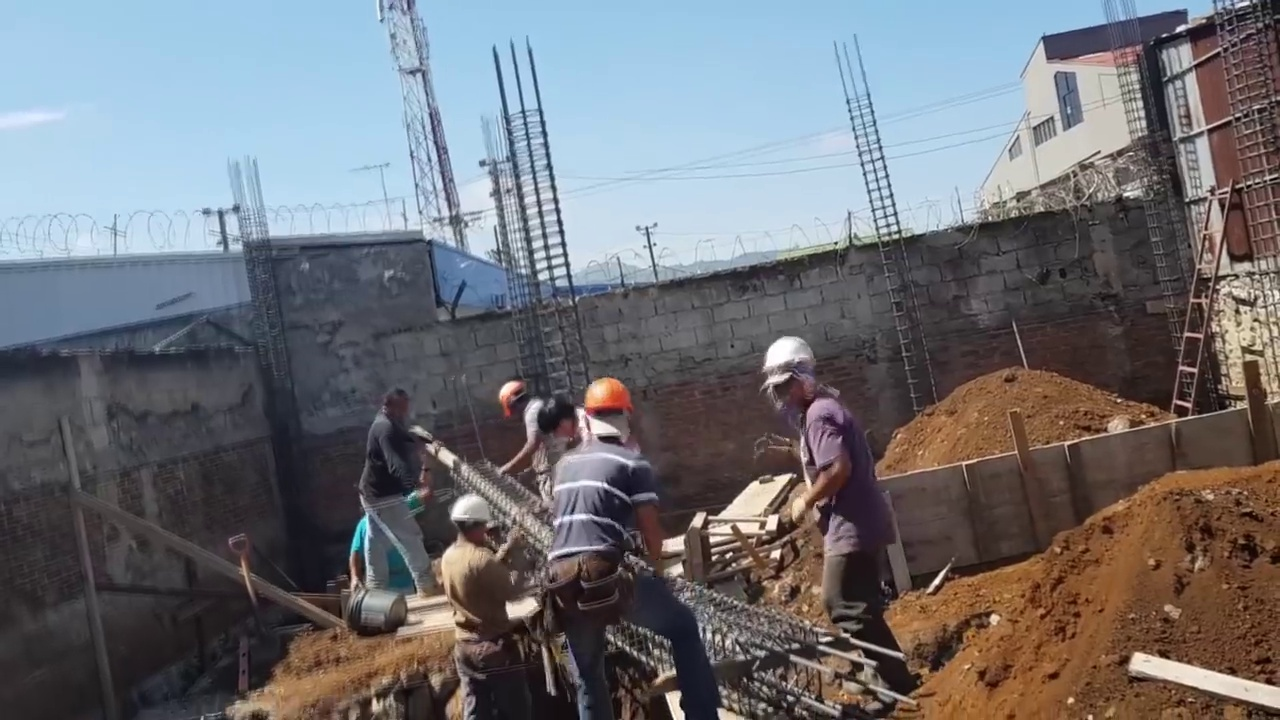helmet: (760, 339, 822, 386), (582, 381, 634, 413), (450, 496, 491, 526), (499, 383, 525, 415)
helmet-off: (539, 395, 581, 448), (373, 391, 409, 427)
helmet-on: (762, 339, 823, 415), (582, 382, 633, 448), (449, 498, 491, 549), (498, 379, 533, 422)
person: (761, 335, 917, 717), (547, 375, 718, 719), (351, 378, 434, 612), (443, 496, 533, 701), (498, 379, 576, 497)
